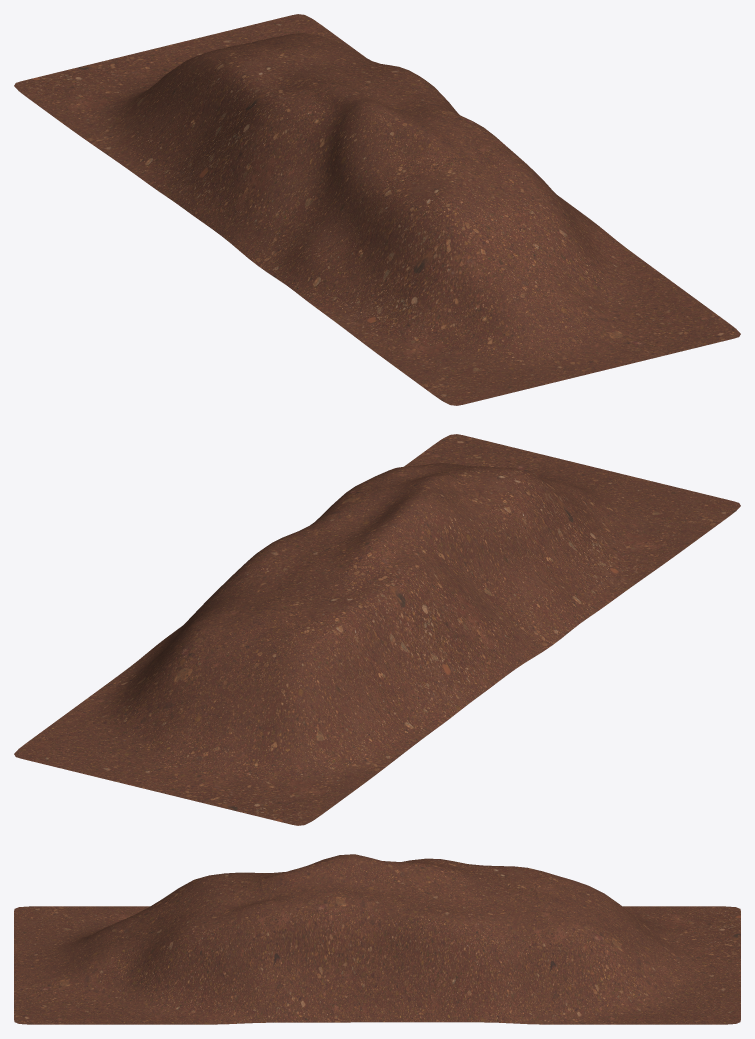
File: TanahKub1.fbx
The picture shows the model from 3 angles, top to bottom: view 1: azimuth 30°, elevation 25°; view 2: azimuth 150°, elevation 25°; view 3: azimuth 270°, elevation 25°; orthographic projection. The views are drawn at different scales.
Visible parts, largest first — view 1: Plane.018; view 2: Plane.018; view 3: Plane.018.
Part boxes in pixels (<box>): Plane.018: <box>14,14,740,405</box>; Plane.018: <box>14,434,740,825</box>; Plane.018: <box>14,854,740,1024</box>.
Size of the model in its own units: 521 by 208 by 1350.
